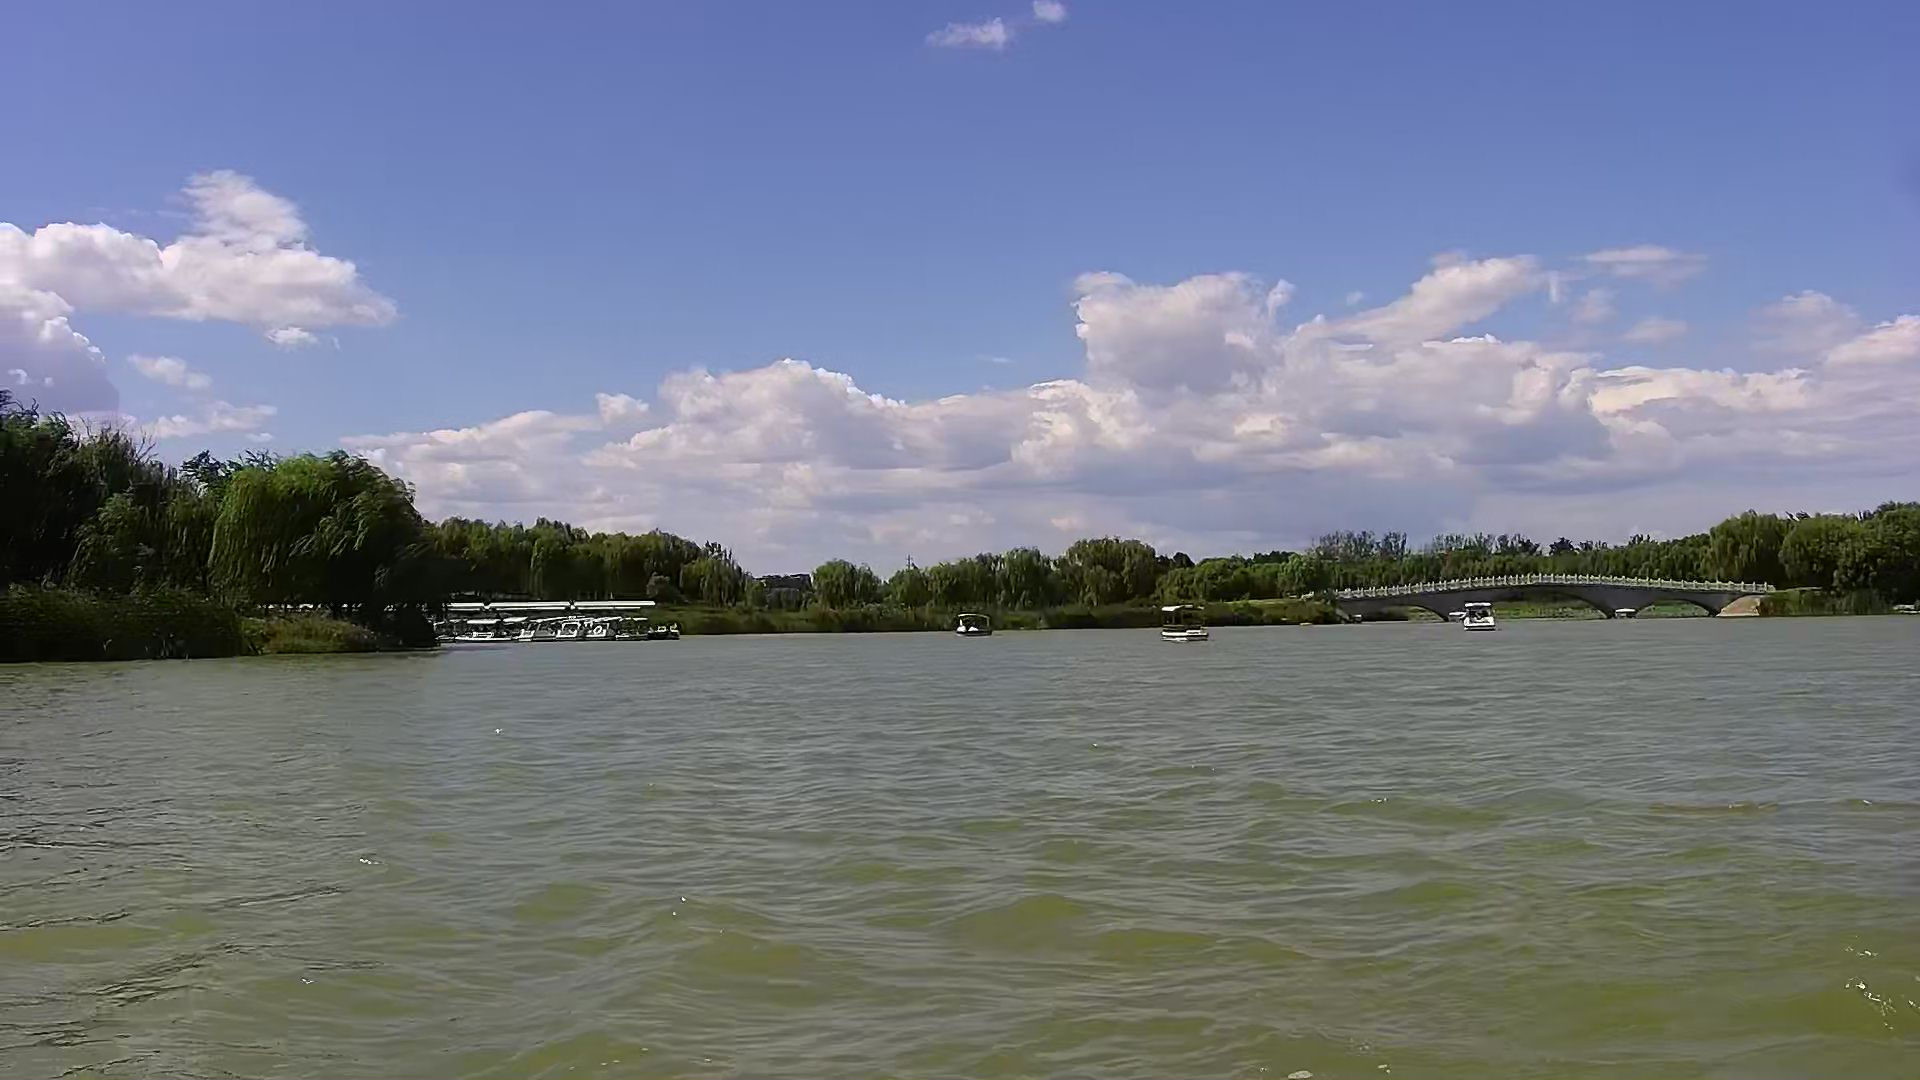boat: (1164, 597, 1215, 641), (943, 608, 1005, 642), (1458, 597, 1497, 640)
bridge: (1315, 570, 1789, 624)
